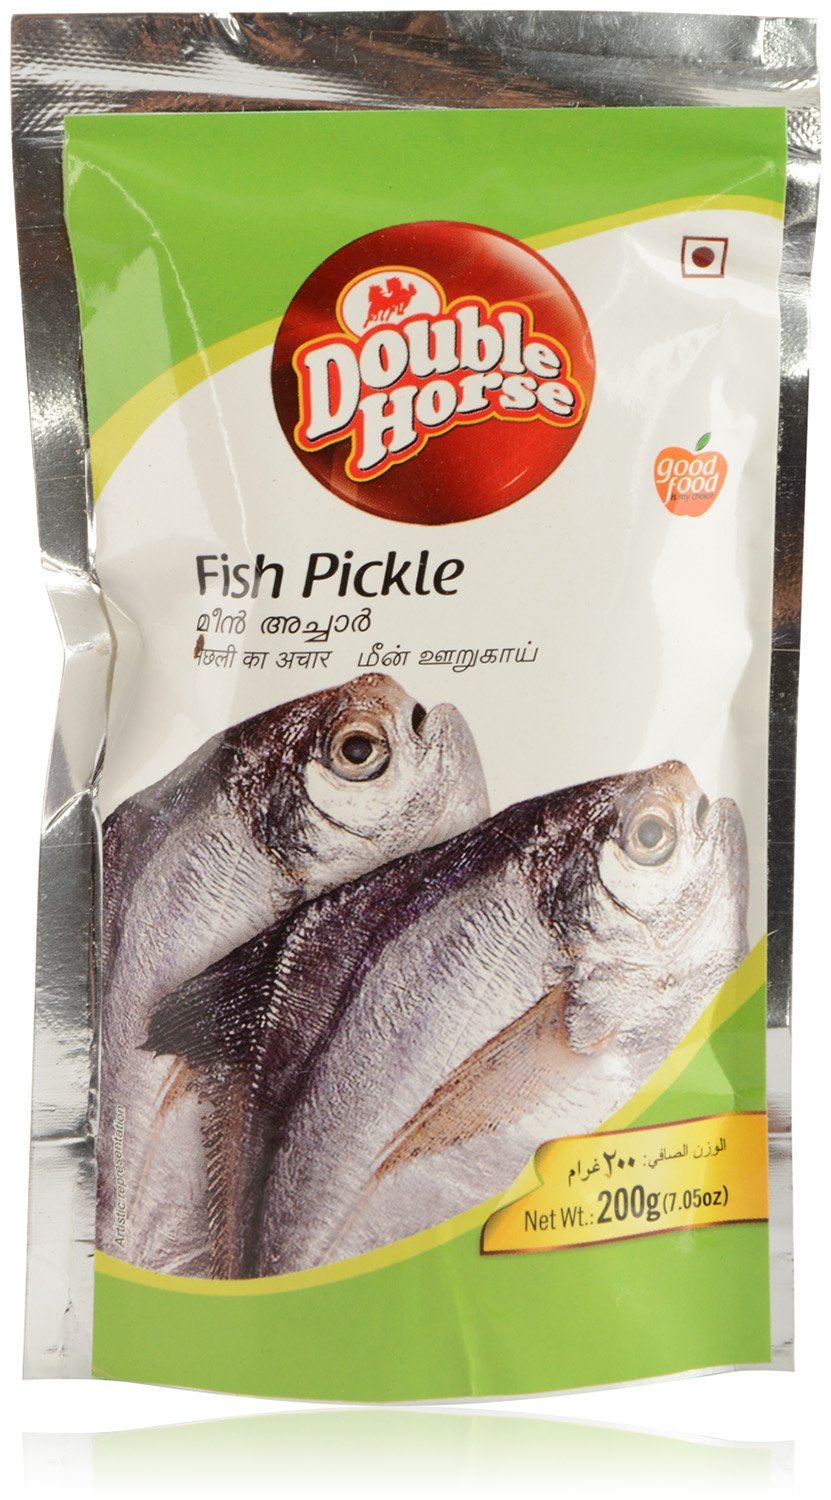nonveg_red: (681, 233, 728, 279)
